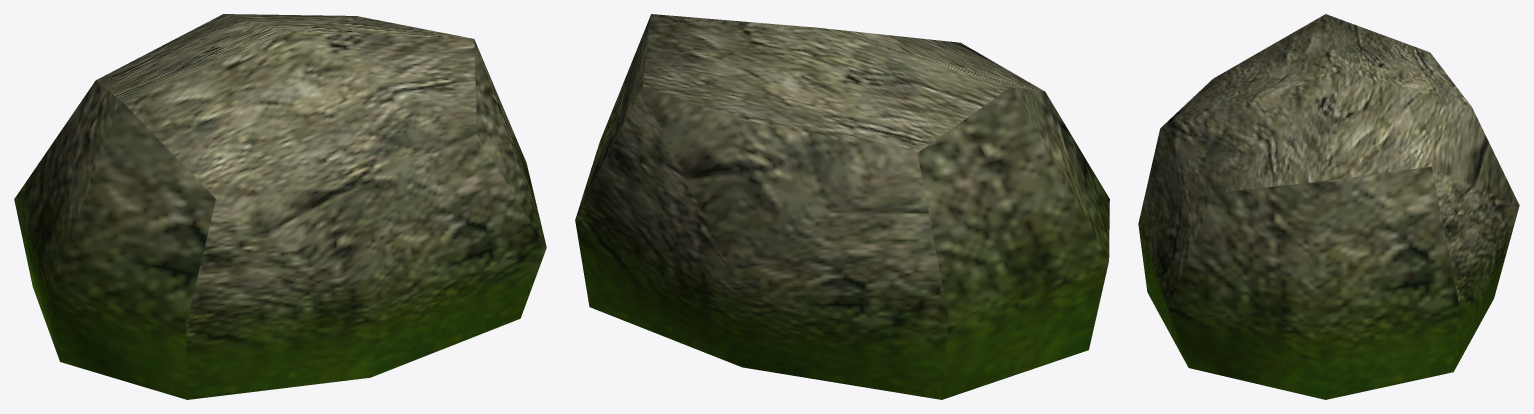
Rendered from nast14.dae.
The picture shows the model from 3 angles, left to right: view 1: azimuth 30°, elevation 25°; view 2: azimuth 150°, elevation 25°; view 3: azimuth 270°, elevation 25°; orthographic projection. The views are drawn at different scales.
Visible parts, largest first — view 1: stones02; view 2: stones02; view 3: stones02.
Part boxes in pixels (x1=…): stones02: x1=14, y1=14, x2=546, y2=399; stones02: x1=575, y1=14, x2=1109, y2=399; stones02: x1=1138, y1=14, x2=1519, y2=399.
Bounding box in the file's own units: 2.36 × 1.81 × 1.22.
1 material, 1 textured.
